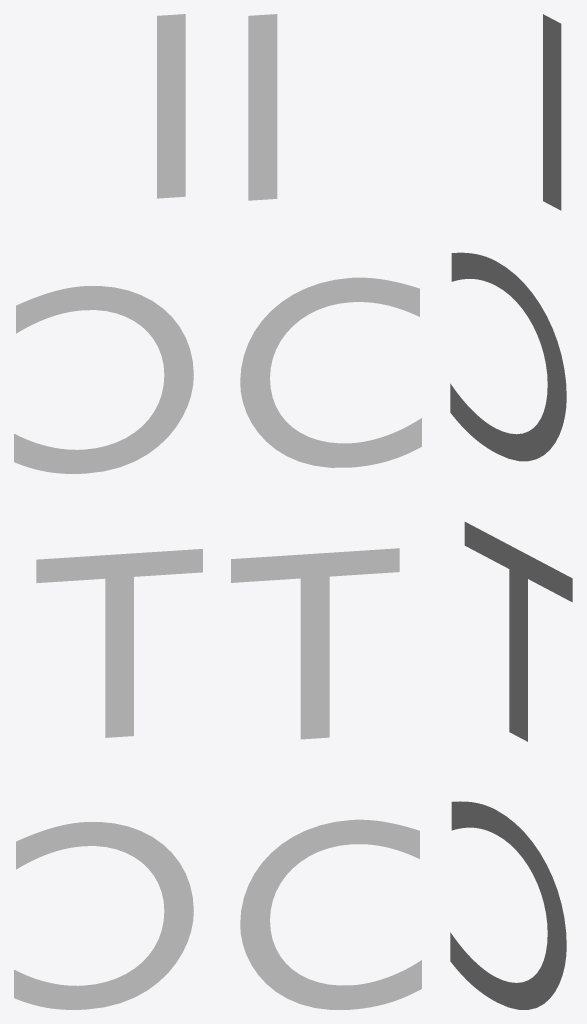
Rendered from ICTCWrite.fbx.
3 views of the same model, side by side, from view 1: azimuth 30°, elevation 25°; view 2: azimuth 210°, elevation 25°; view 3: azimuth 330°, elevation 25° (orthographic). The views are drawn at different scales.
Parts seen in each view (by area): view 1: Text; view 2: Text; view 3: Text.
Boxes of the visible parts, <box> form: Text: <box>14,14,202,1009</box>; Text: <box>231,14,421,1009</box>; Text: <box>450,14,572,1009</box>.
Size of the model in its own units: 60.19 by 369 by 23.47.
1 material, 1 textured.
